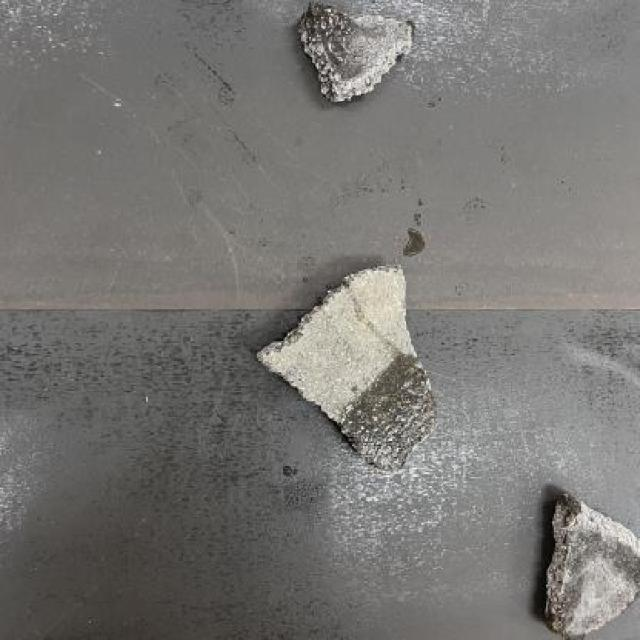Road Debris: (341, 358, 436, 457), (303, 1, 379, 78), (597, 522, 640, 596), (562, 528, 590, 624)
